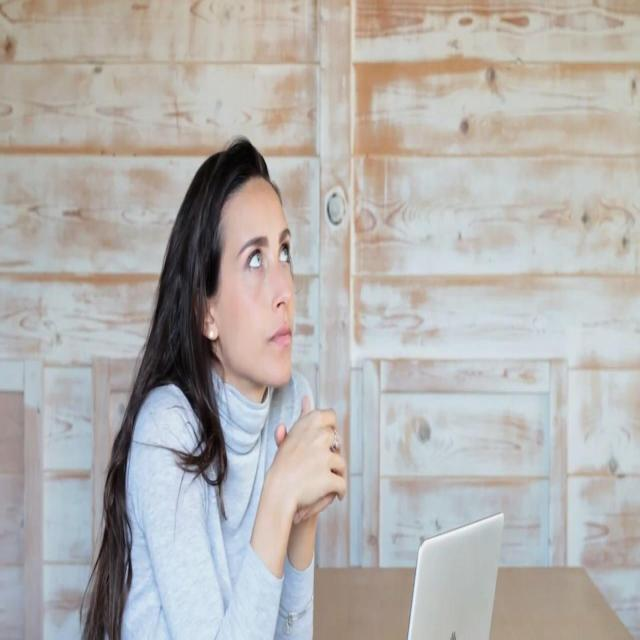person: (79, 135, 347, 639)
